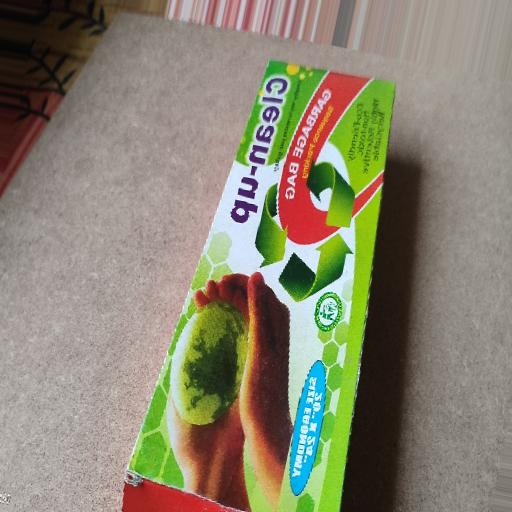CleanUp Garbage bag: (114, 36, 395, 512)
